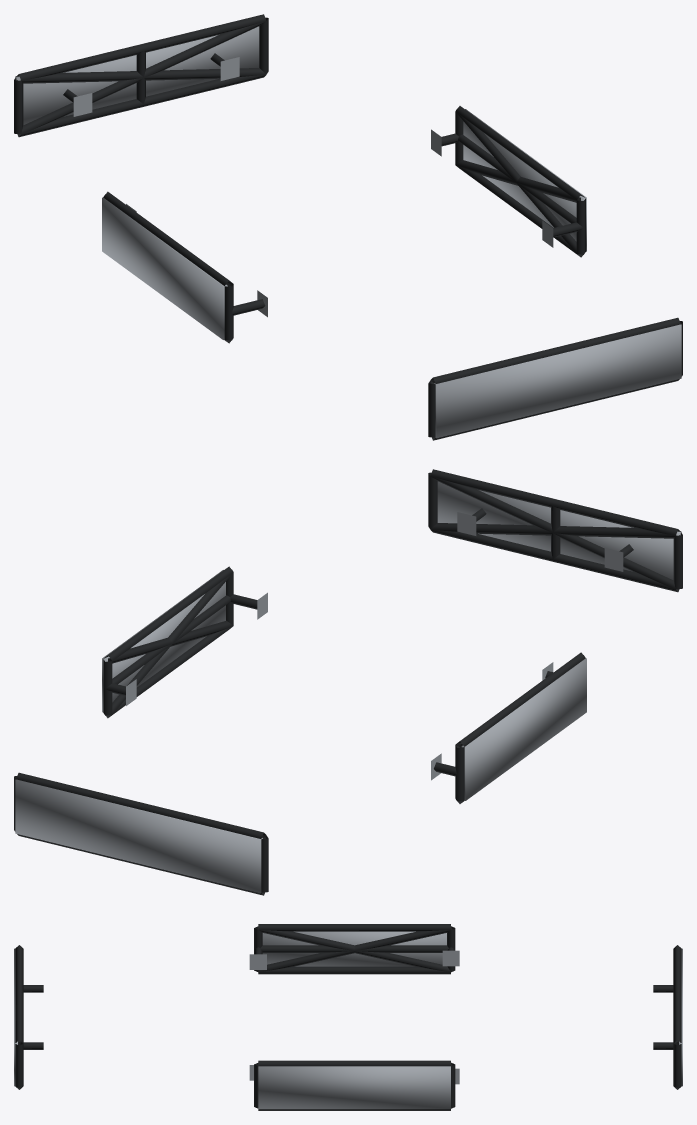
Rendered from ridgeway_escarpa_protecao.glb.
3 views of the same model, one above another, from view 1: azimuth 30°, elevation 25°; view 2: azimuth 150°, elevation 25°; view 3: azimuth 270°, elevation 25° (orthographic). The views are drawn at different scales.
Visible parts, largest first — view 1: Protection_front_Level3_Details, Protection_left_Level3_Details, Protection_rear_Level1_Details, Protection_rear_Level3_Details, Protection_rear_Level2_Details, Protection_right_Level1_Details, Protection_right_Level2_Details, Protection_front_Level1_Details, Protection_right_Level3_Details, Protection_left_Level1_Details; view 2: Protection_rear_Level3_Details, Protection_left_Level3_Details, Protection_front_Level1_Details, Protection_front_Level3_Details, Protection_front_Level2_Details, Protection_right_Level1_Details, Protection_right_Level2_Details, Protection_rear_Level1_Details, Protection_right_Level3_Details, Protection_left_Level1_Details; view 3: Protection_right_Level3_Details, Protection_left_Level1_Details, Protection_left_Level2_Details, Protection_left_Level3_Details, Protection_right_Level1_Details, Protection_rear_Level1_Details, Protection_front_Level1_Details.
Part boxes in pixels (<box>): Protection_front_Level3_Details: <box>434,324,681,438</box>; Protection_left_Level3_Details: <box>102,197,227,339</box>; Protection_rear_Level1_Details: <box>14,14,268,137</box>; Protection_rear_Level3_Details: <box>15,26,259,125</box>; Protection_rear_Level2_Details: <box>16,21,265,136</box>; Protection_right_Level1_Details: <box>431,106,585,257</box>; Protection_right_Level2_Details: <box>455,112,584,256</box>; Protection_front_Level1_Details: <box>428,317,682,440</box>; Protection_right_Level3_Details: <box>463,109,586,251</box>; Protection_left_Level1_Details: <box>103,191,267,343</box>; Protection_rear_Level3_Details: <box>15,779,262,893</box>; Protection_left_Level3_Details: <box>461,658,586,800</box>; Protection_front_Level1_Details: <box>428,469,682,592</box>; Protection_front_Level3_Details: <box>437,481,681,580</box>; Protection_front_Level2_Details: <box>431,476,680,591</box>; Protection_right_Level1_Details: <box>103,566,267,718</box>; Protection_right_Level2_Details: <box>104,573,233,717</box>; Protection_rear_Level1_Details: <box>14,772,268,895</box>; Protection_right_Level3_Details: <box>102,570,225,712</box>; Protection_left_Level1_Details: <box>431,652,585,803</box>; Protection_right_Level3_Details: <box>258,1066,450,1109</box>; Protection_left_Level1_Details: <box>249,924,459,974</box>; Protection_left_Level2_Details: <box>258,926,451,972</box>; Protection_left_Level3_Details: <box>262,931,446,966</box>; Protection_right_Level1_Details: <box>249,1060,459,1110</box>; Protection_rear_Level1_Details: <box>653,945,681,1089</box>; Protection_front_Level1_Details: <box>15,945,43,1089</box>.
Bounding box in the file's own units: 2.13 × 0.354 × 4.27.
Materials: 1 (1 with a texture image).
